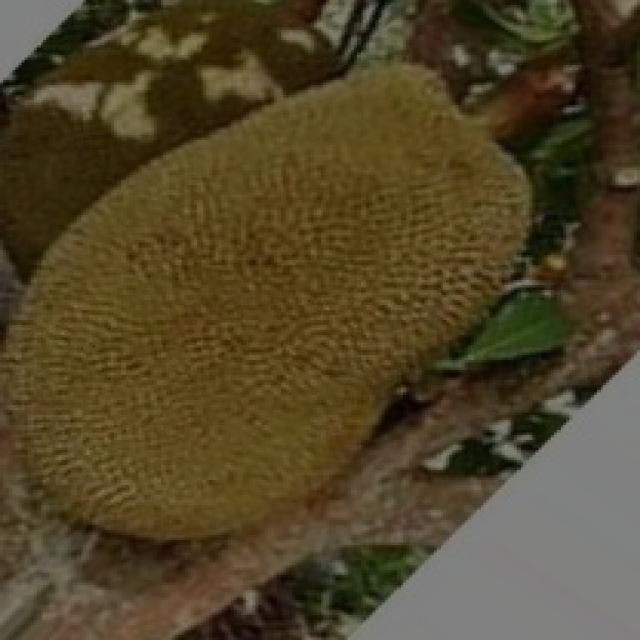Fruit: (182, 25, 584, 380)
